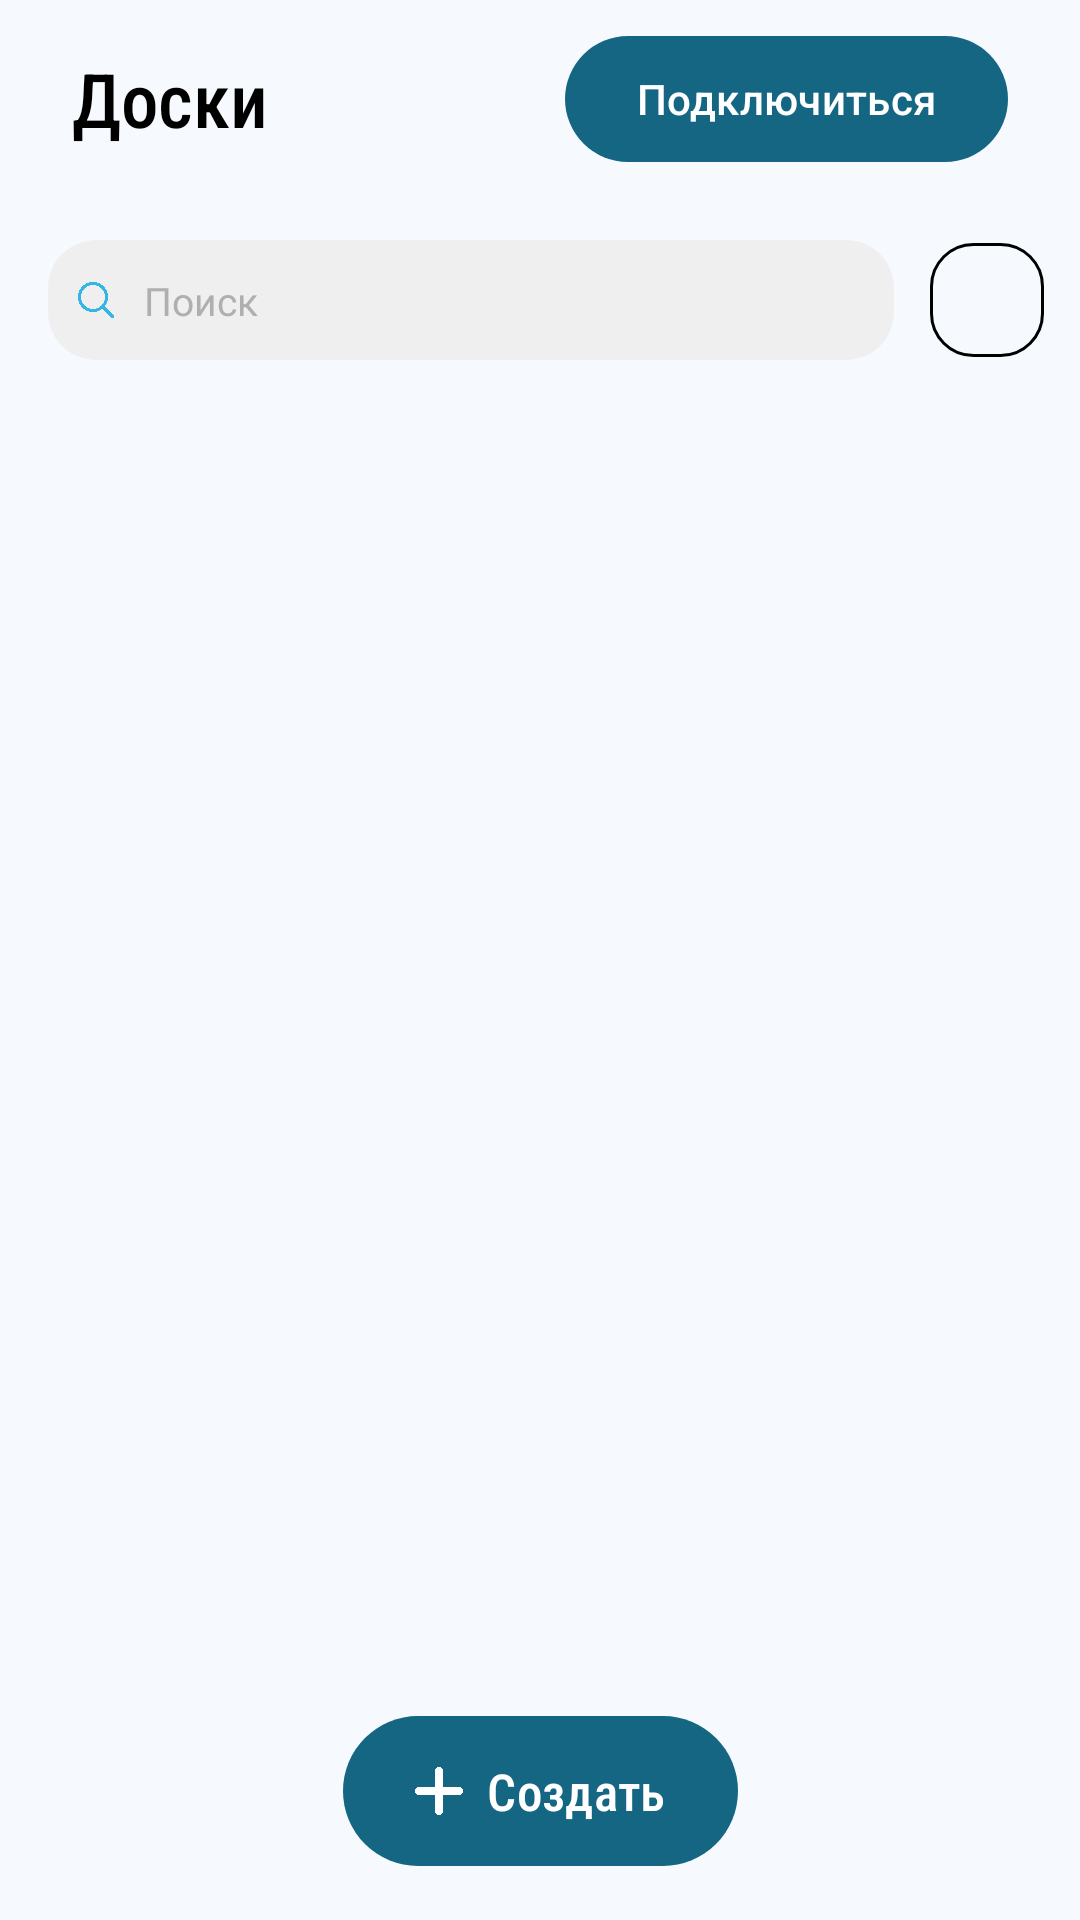

Where icons sit on this 1080px x 1920px app screen, as (x1, y1, x2, y2):
search: (78, 282, 114, 318)
